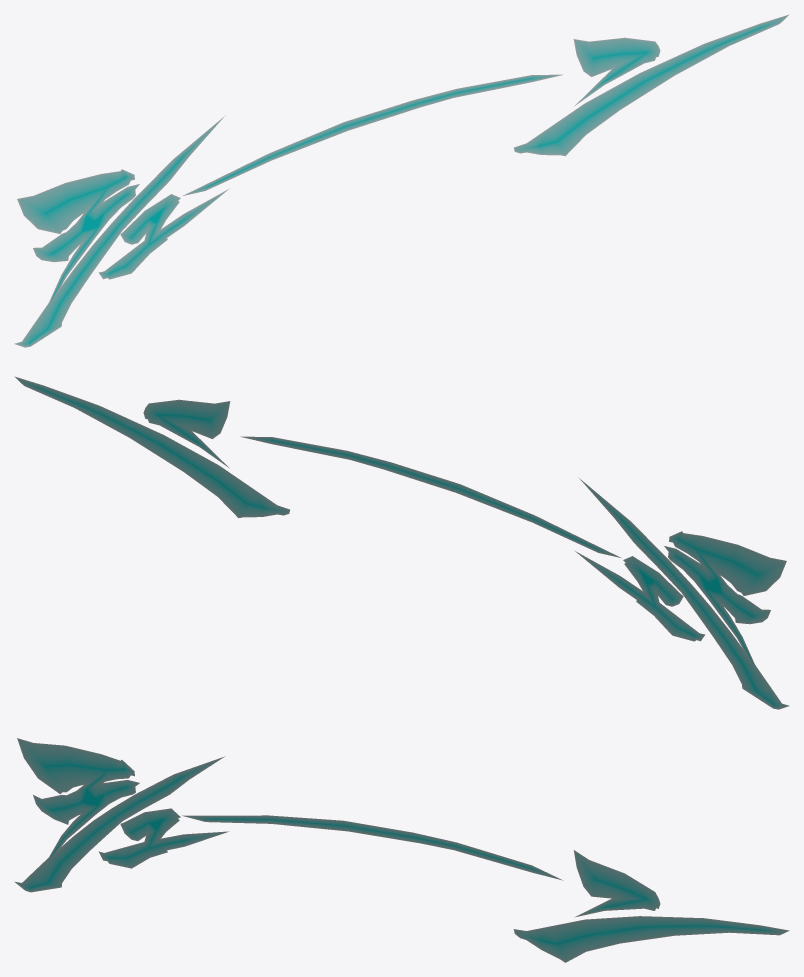
The model's file is SM_EFF_Text_TrueRasenShuriken_01.glb.
3 views of the same model, one above another, from view 1: azimuth 30°, elevation 25°; view 2: azimuth 150°, elevation 25°; view 3: azimuth 330°, elevation 25° (orthographic).
Visible parts, largest first — view 1: SM_EFF_Text_TrueRasenShuriken_01; view 2: SM_EFF_Text_TrueRasenShuriken_01; view 3: SM_EFF_Text_TrueRasenShuriken_01.
Boxes of the visible parts, x1,y1,x2,y2 form: SM_EFF_Text_TrueRasenShuriken_01: [14, 14, 789, 347]; SM_EFF_Text_TrueRasenShuriken_01: [14, 376, 789, 709]; SM_EFF_Text_TrueRasenShuriken_01: [14, 738, 789, 962].
Bounding box in the file's own units: 3.43 × 0.7779 × 4.76e-17.
